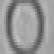no answer: (3, 1, 45, 51)
